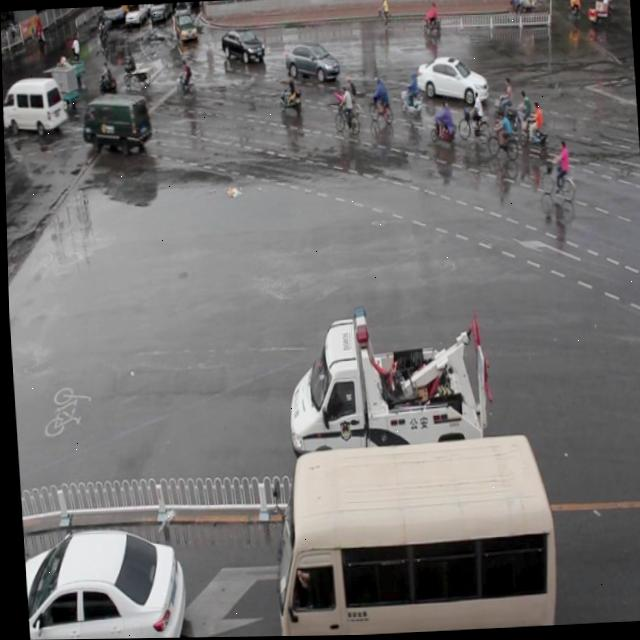bus: (280, 296, 493, 490)
car: (19, 522, 183, 640), (413, 54, 488, 108), (282, 38, 340, 87), (219, 23, 265, 68), (173, 10, 199, 45)
truck: (263, 432, 554, 637), (79, 92, 153, 159)
